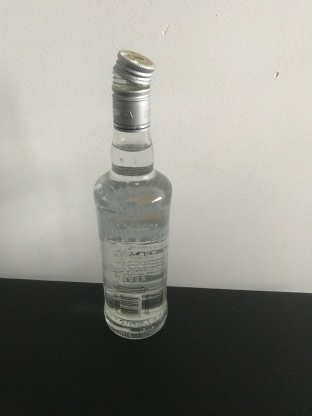nakretka: (110, 47, 156, 133)
